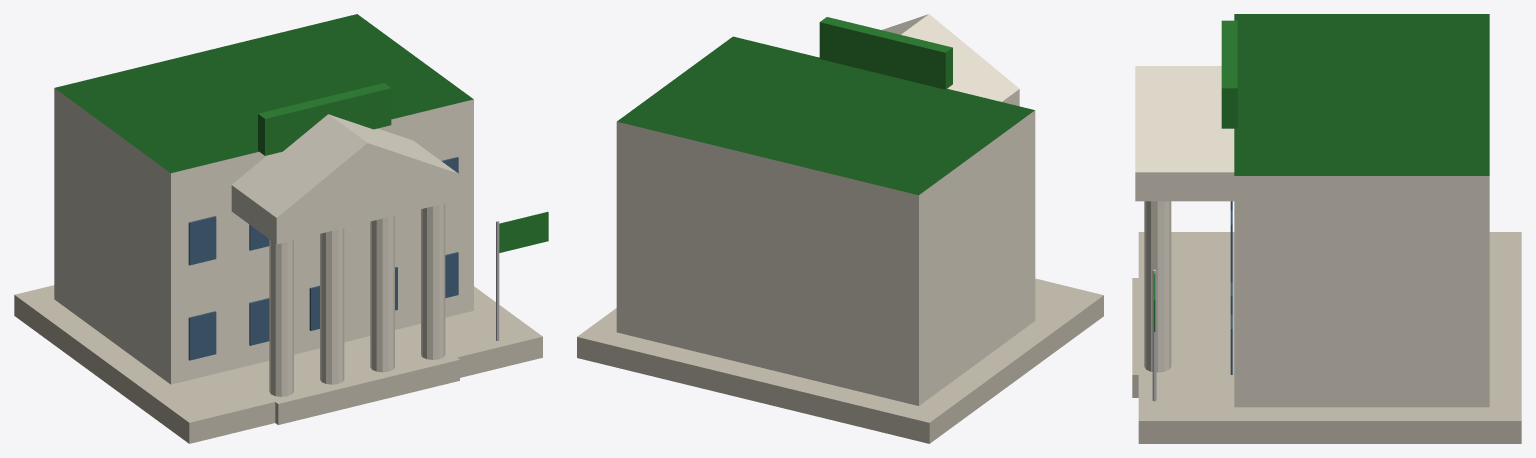
Rendered from gov_min_finance.glb.
3 renders of one model, left to right at view 1: azimuth 30°, elevation 25°; view 2: azimuth 150°, elevation 25°; view 3: azimuth 270°, elevation 25°, orthographic. The views are drawn at different scales.
Visible parts, largest first — view 1: box; view 2: box; view 3: box.
Part boxes in pixels (x1=…): box: x1=14, y1=14, x2=548, y2=443; box: x1=577, y1=14, x2=1103, y2=443; box: x1=1132, y1=14, x2=1521, y2=443.
Size of the model in its own units: 14.5 by 10.2 by 12.2.
